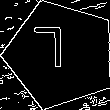L_S: (44, 29, 77, 80)
